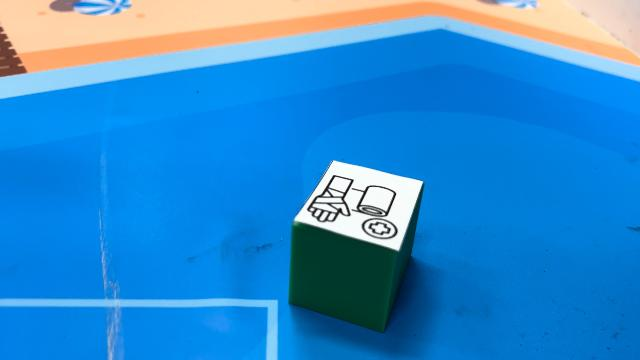bandage: (288, 159, 424, 333)
